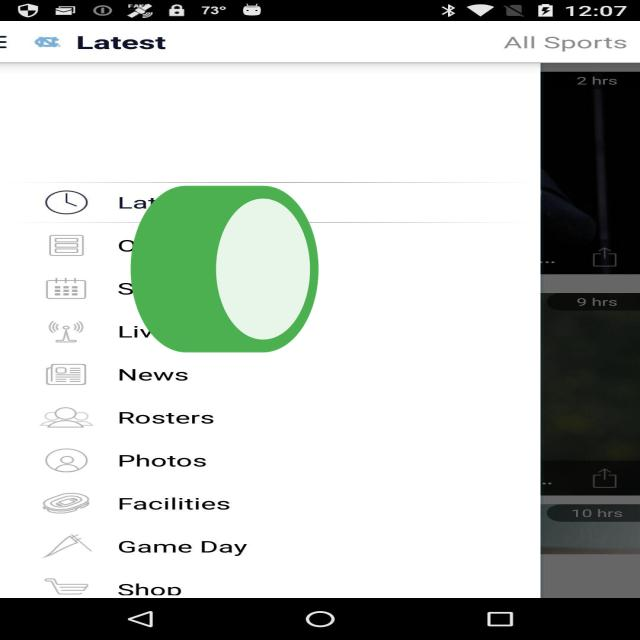social proof: (122, 122, 327, 429)
